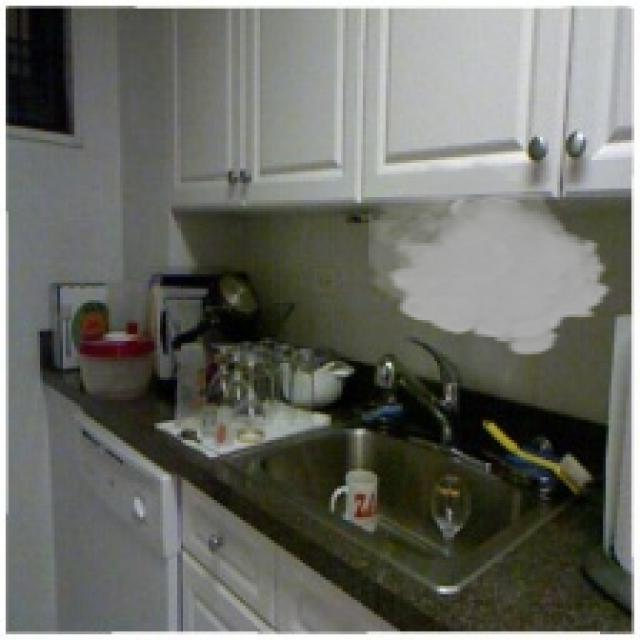Smoke: (368, 154, 614, 357)
